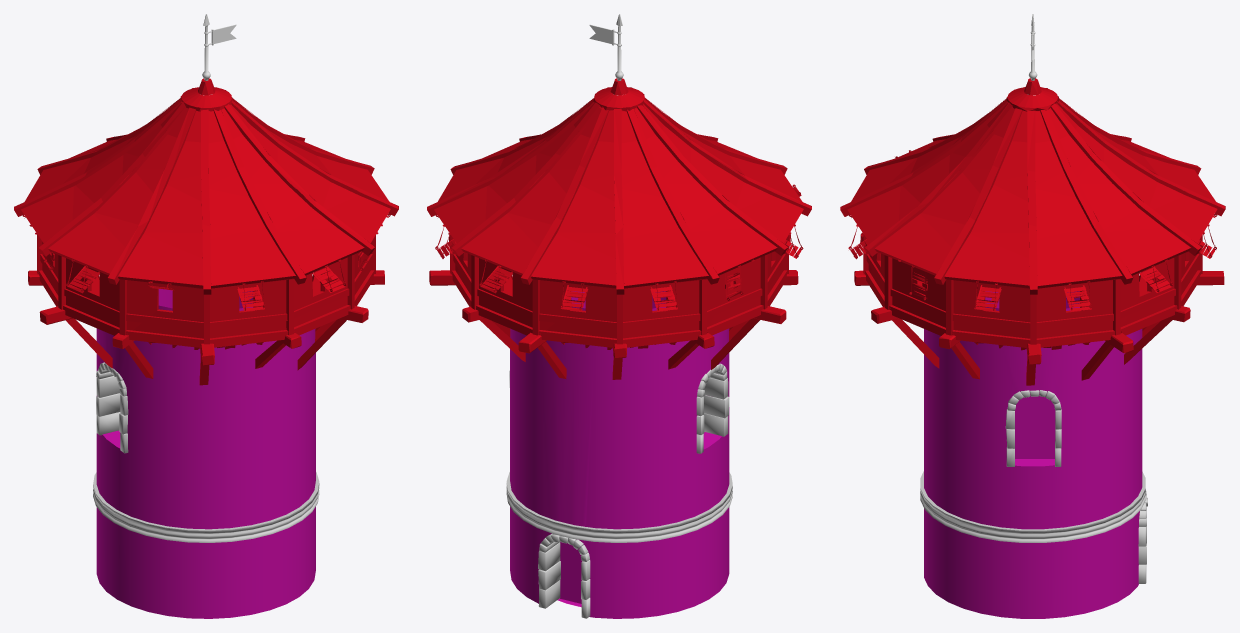
The model's file is Tower_4 (2).fbx.
The picture shows the model from 3 angles, left to right: view 1: azimuth 30°, elevation 25°; view 2: azimuth 150°, elevation 25°; view 3: azimuth 270°, elevation 25°; orthographic projection.
Visible parts, largest first — view 1: Group_4.010, Tower_1.004, Group_4.011; view 2: Group_4.010, Tower_1.004, Group_4.011; view 3: Group_4.010, Tower_1.004.
Part boxes in pixels (x1,y1,x2,y2): Group_4.010: (14,78,398,385); Tower_1.004: (93,289,319,618); Group_4.011: (200,14,236,95); Group_4.010: (427,78,811,379); Tower_1.004: (506,291,732,618); Group_4.011: (589,14,623,95); Group_4.010: (840,78,1225,385); Tower_1.004: (920,291,1147,618).
Bounding box in the file's own units: 1135 × 1818 × 1133.
